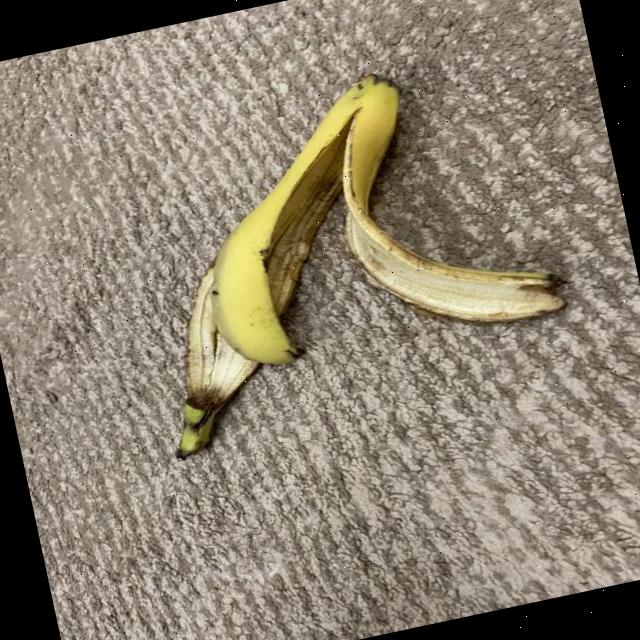banana-peel: (104, 39, 586, 460), (313, 52, 573, 353)
